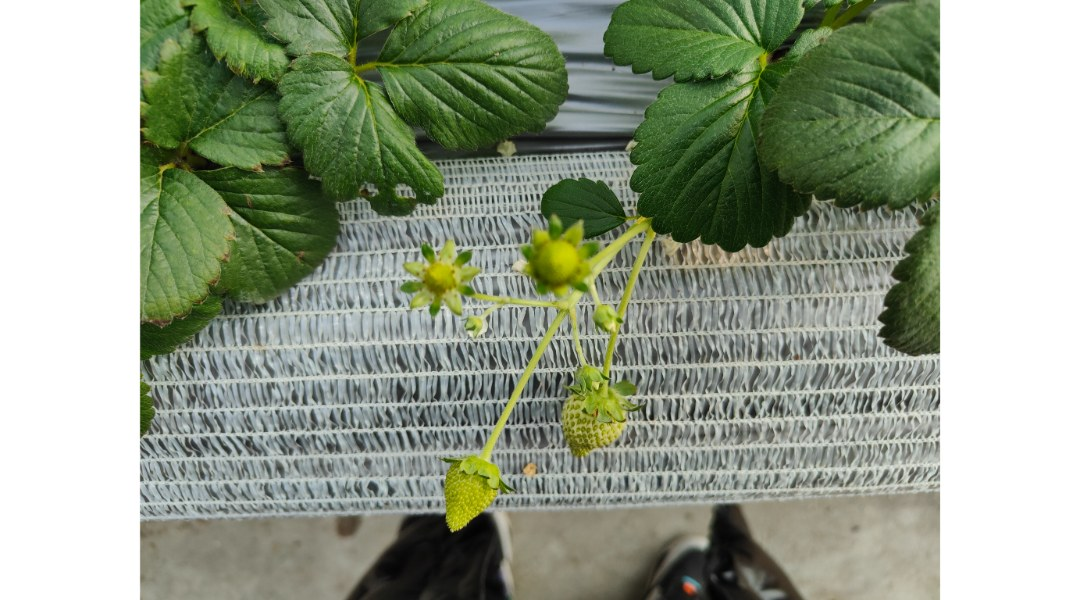berry: (426, 443, 503, 536), (545, 382, 642, 454), (398, 243, 481, 321), (512, 214, 594, 290), (588, 300, 621, 339)
strain: (474, 316, 558, 474), (469, 287, 559, 317), (624, 228, 660, 299), (600, 297, 631, 368), (567, 305, 587, 366)
